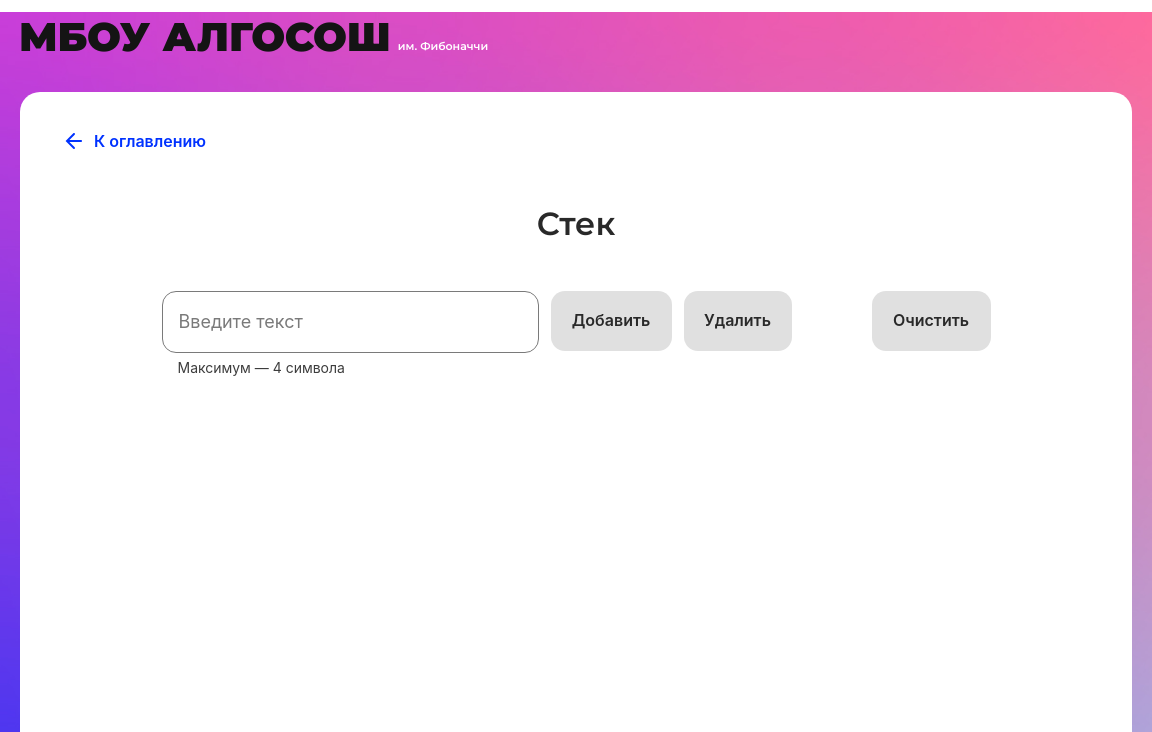
Test: корректная работа кнопки на странице /stack › должна становиться снова заблокированной при удалении данных
Type "test" into the field with placeholder "Введите текст" at (351,322), box [162, 291, 539, 353]
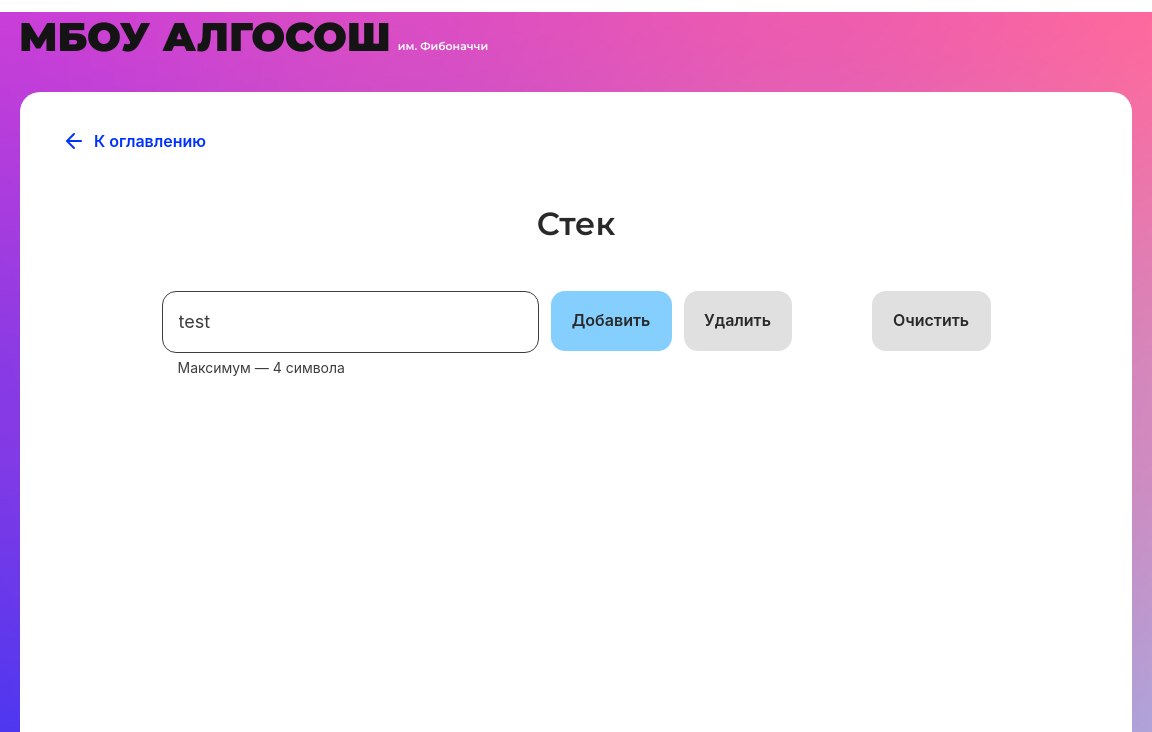
Expected: the submit button is enabled
Clear the field at (351,322), box [162, 291, 539, 353]
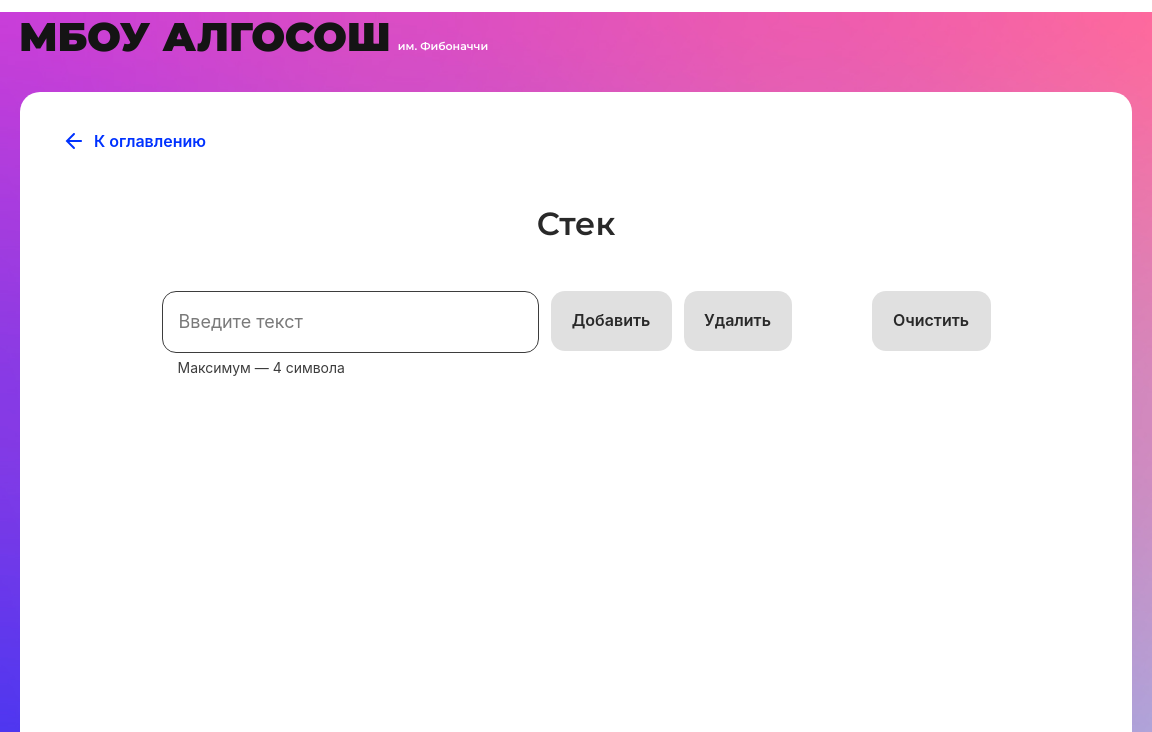
Expected: the submit button is disabled, [551, 291, 672, 351]
